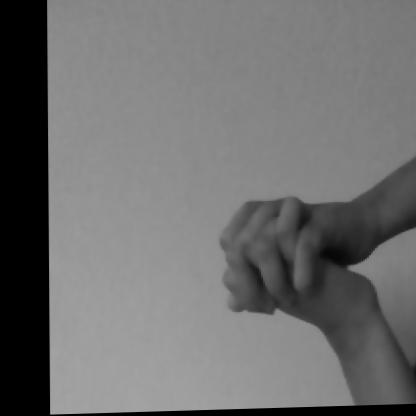prayer: (185, 133, 397, 366)
